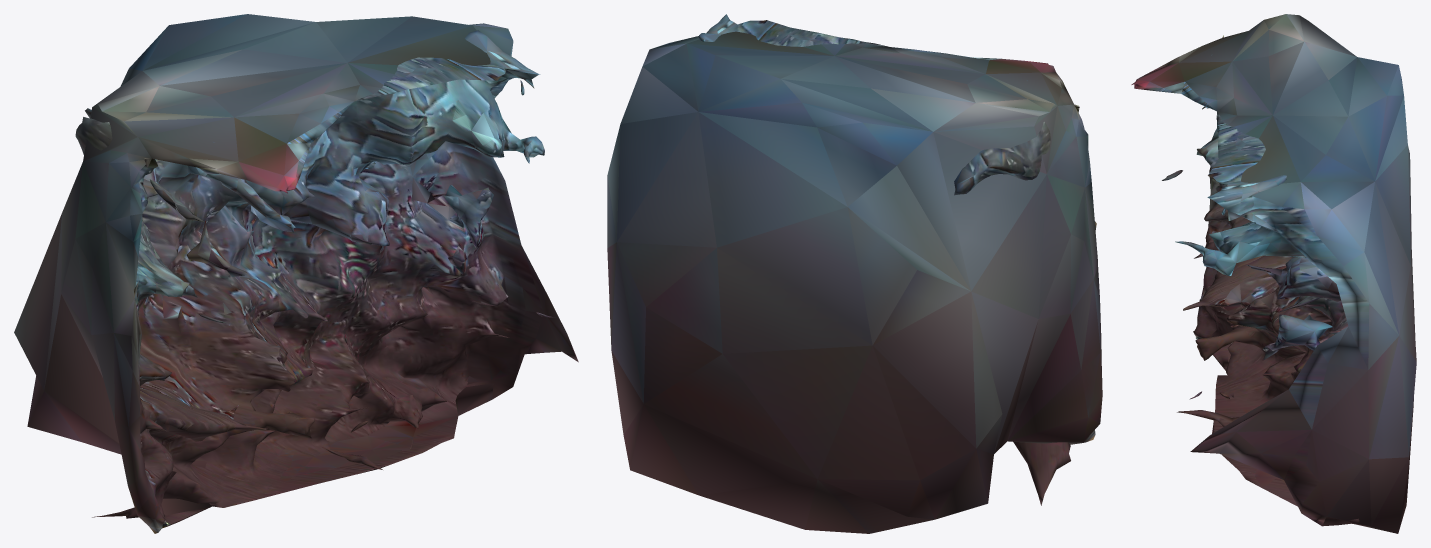
The model's file is packmemberflopsdied.glb.
The picture shows the model from 3 angles, left to right: view 1: azimuth 30°, elevation 25°; view 2: azimuth 150°, elevation 25°; view 3: azimuth 270°, elevation 25°; orthographic projection. The views are drawn at different scales.
Parts seen in each view (by area): view 1: packmemberflopsdied; view 2: packmemberflopsdied; view 3: packmemberflopsdied.
Boxes of the visible parts, x1,y1,x2,y2 form: packmemberflopsdied: (14, 14, 578, 533); packmemberflopsdied: (607, 14, 1102, 533); packmemberflopsdied: (1131, 14, 1416, 533).
Bounding box in the file's own units: 11.64 × 11 × 7.57.
Materials: 1 (1 with a texture image).
